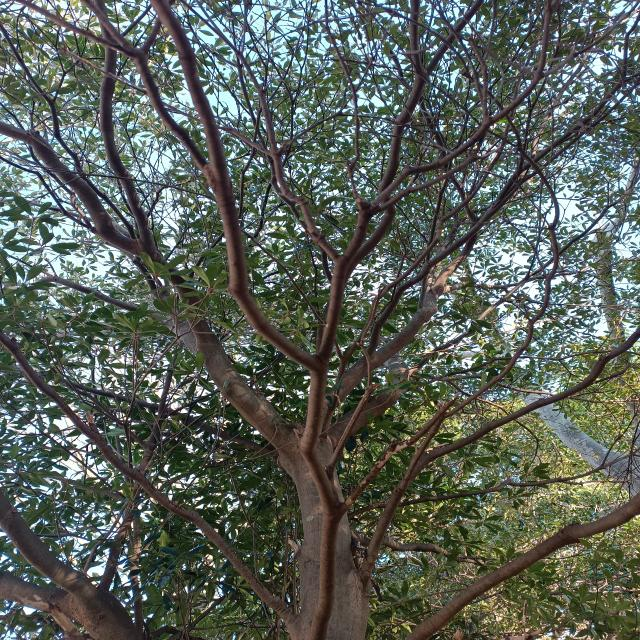Branch: (132, 235, 366, 640), (348, 67, 428, 281), (0, 491, 104, 597), (0, 567, 65, 614)
Twig: (15, 0, 342, 640), (356, 3, 561, 582), (326, 46, 535, 471), (0, 329, 294, 620), (176, 0, 348, 363), (372, 0, 553, 207), (407, 490, 639, 640), (415, 324, 640, 478), (62, 47, 271, 155), (349, 448, 640, 519), (0, 120, 134, 254), (149, 0, 230, 187), (342, 394, 458, 514), (324, 0, 374, 265), (99, 37, 154, 248), (375, 150, 494, 213), (543, 1, 638, 77), (427, 0, 484, 76), (410, 0, 424, 77)
